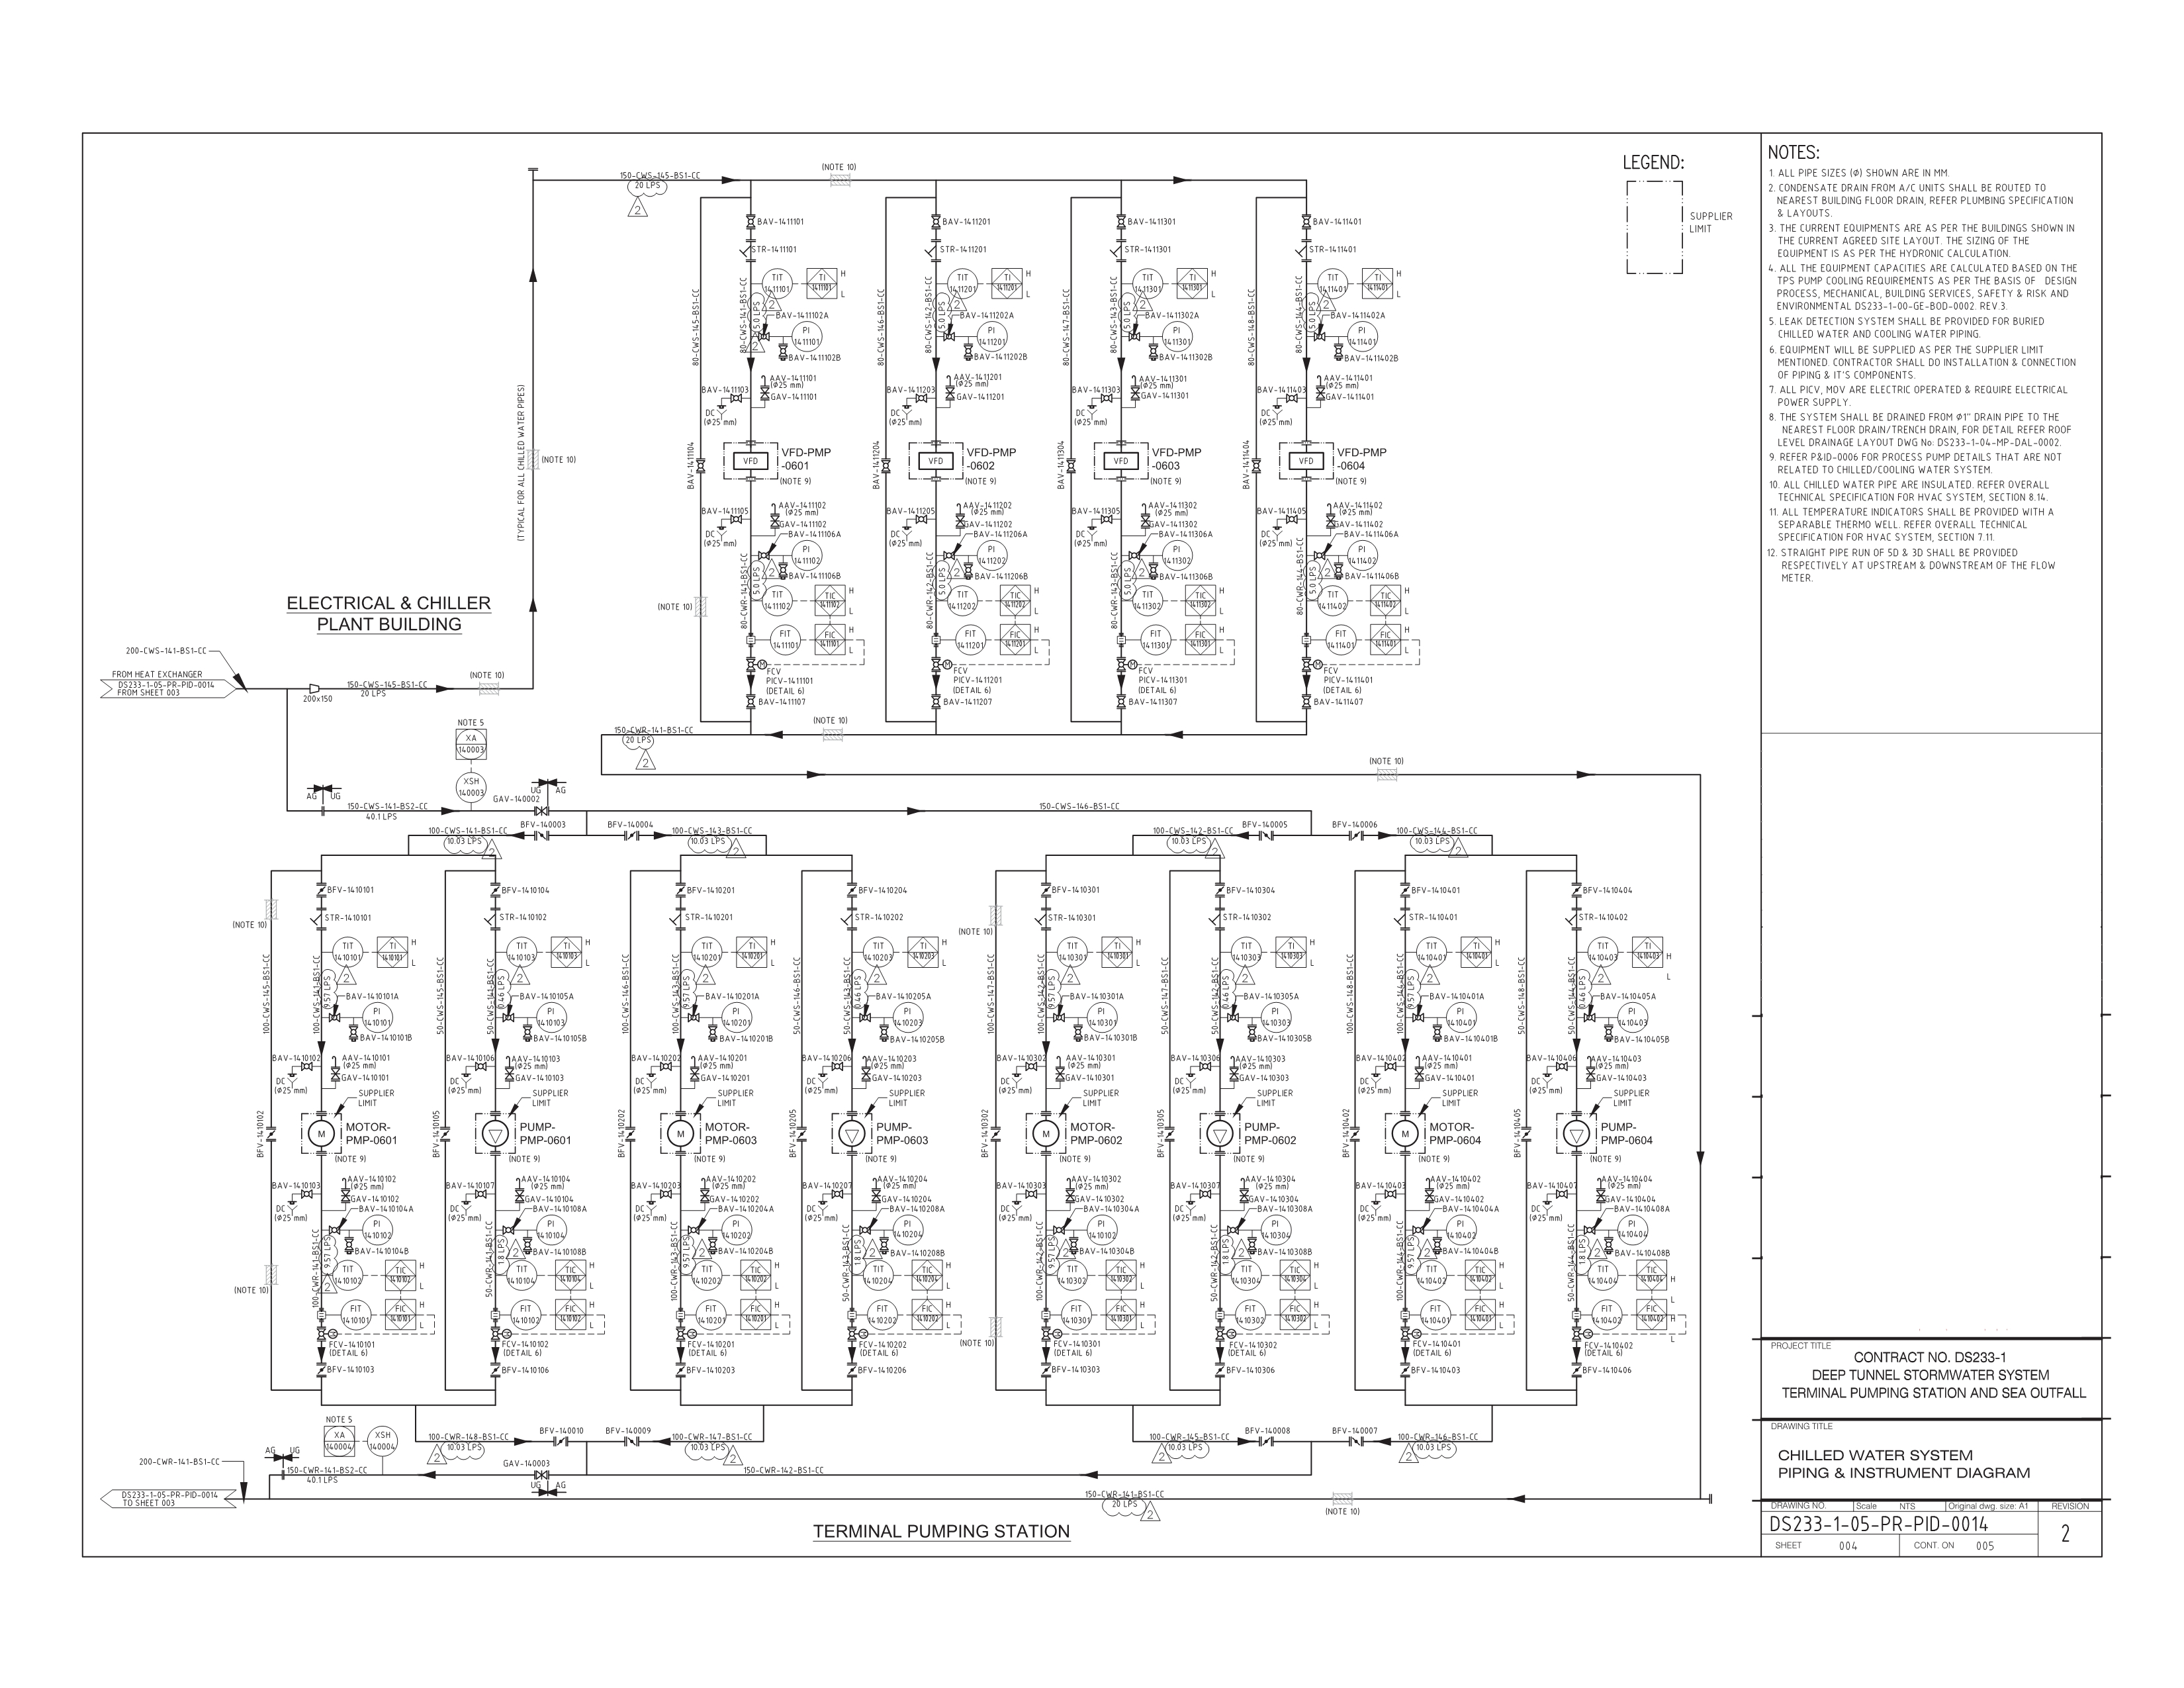Inline Instrument: (945, 264, 982, 300), (1345, 317, 1383, 353), (787, 319, 824, 355), (789, 537, 826, 573), (757, 583, 794, 619), (1159, 537, 1197, 573), (718, 998, 755, 1034), (860, 934, 897, 970), (1055, 933, 1092, 968), (1257, 1000, 1294, 1035), (1585, 1255, 1622, 1291), (1587, 1298, 1624, 1333), (1441, 1211, 1478, 1246), (1232, 1298, 1269, 1333), (1230, 1257, 1267, 1293), (507, 1298, 544, 1333), (360, 1211, 397, 1246), (768, 622, 803, 658), (1085, 1000, 1120, 1035), (1230, 934, 1266, 970), (1415, 933, 1450, 968), (1615, 998, 1650, 1034), (1615, 1211, 1650, 1246), (1416, 1259, 1452, 1294), (1085, 1211, 1120, 1246), (865, 1298, 901, 1333), (503, 1257, 539, 1293), (330, 1257, 365, 1293), (339, 1298, 374, 1333), (331, 933, 367, 968), (534, 1000, 569, 1035), (1129, 266, 1166, 300), (1159, 317, 1197, 351), (1131, 583, 1168, 617), (1314, 583, 1351, 617), (690, 933, 727, 966), (888, 1000, 925, 1034), (1416, 1300, 1454, 1333), (1257, 1215, 1294, 1248), (1058, 1296, 1096, 1330), (862, 1259, 899, 1293), (360, 998, 397, 1032), (502, 936, 539, 970), (952, 622, 989, 656), (759, 266, 794, 300), (1315, 266, 1351, 300), (973, 317, 1009, 351), (975, 539, 1010, 573), (1140, 622, 1175, 656), (1324, 622, 1360, 656), (1345, 537, 1381, 571), (1587, 934, 1622, 968), (1443, 1000, 1478, 1034), (1055, 1257, 1090, 1291), (720, 1213, 755, 1246), (690, 1257, 725, 1291), (693, 1296, 729, 1330), (534, 1211, 569, 1245), (454, 768, 489, 801), (365, 1424, 401, 1457), (947, 585, 982, 619)
Panel Instrument: (319, 1422, 356, 1461), (452, 727, 489, 764)
